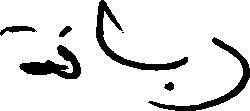X: (0, 21, 53, 79), (212, 32, 249, 110), (59, 21, 78, 83), (96, 0, 106, 59), (177, 52, 186, 110)
